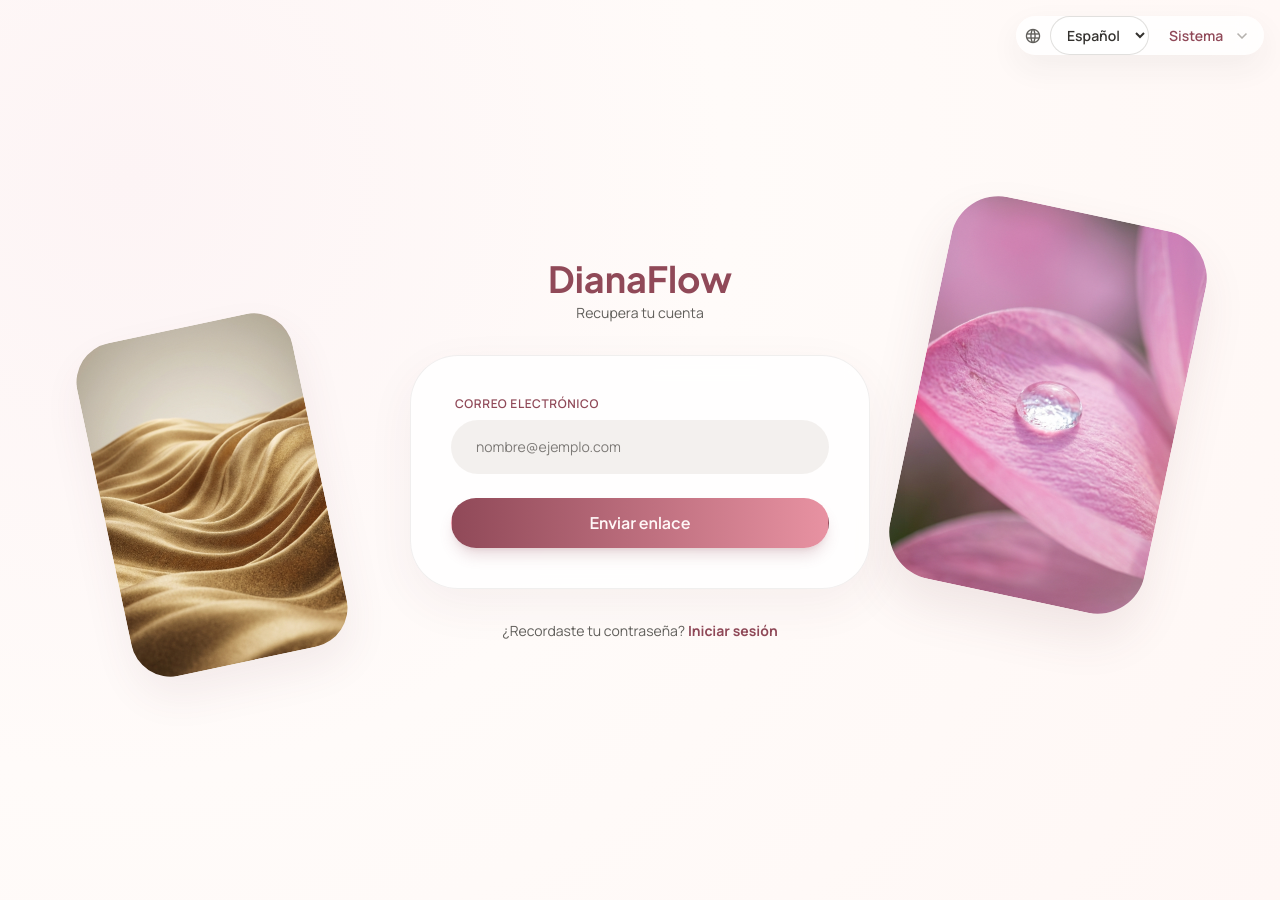
Scenario: requests a password reset in the selected locale
Type "Diana@Example.com" into the field labelled "Correo electrónico" at x=640, y=447, box [451, 420, 829, 474]
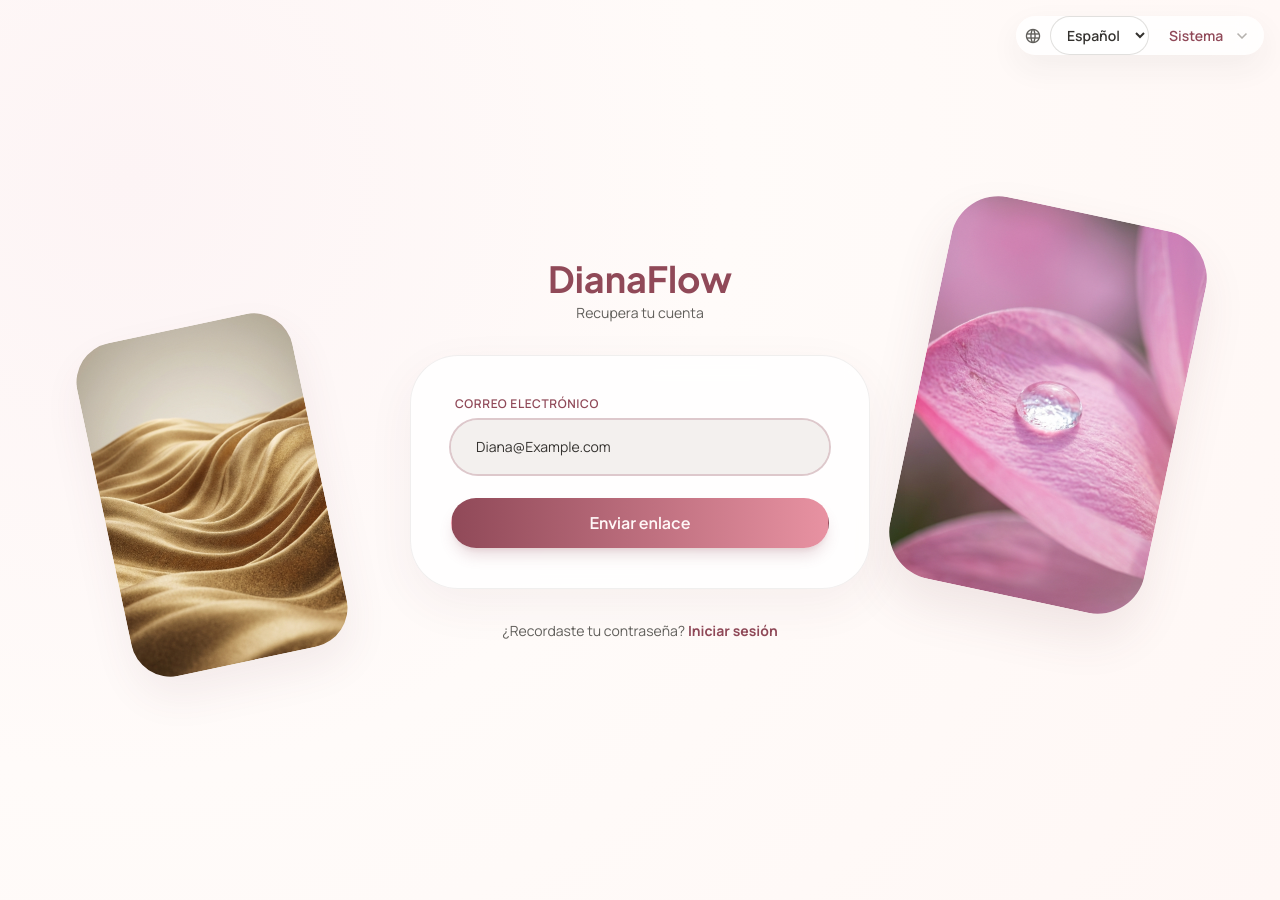
Click the button "Enviar enlace" at x=640, y=523, box [451, 498, 829, 548]
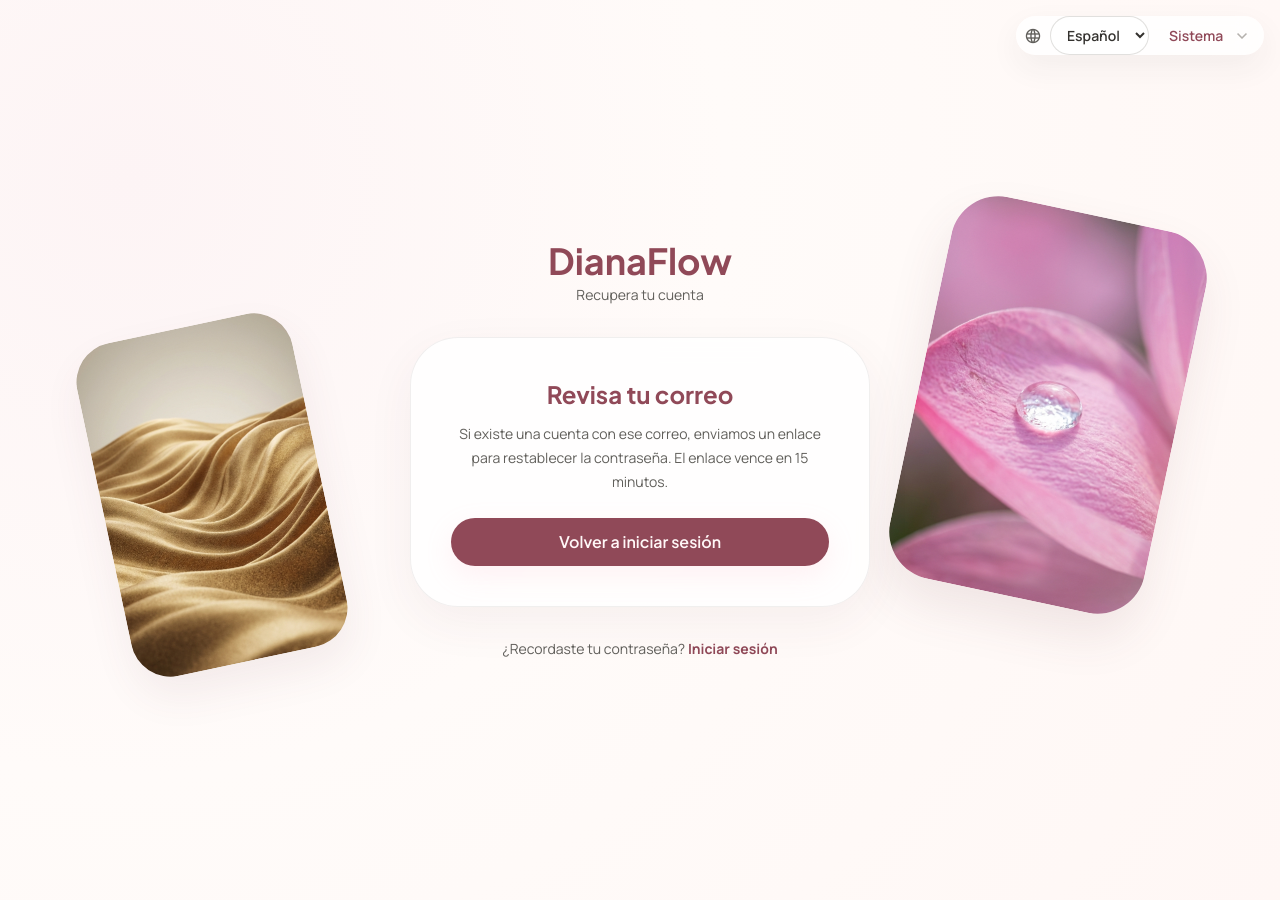
expect the heading "Revisa tu correo" is shown: met, box [547, 379, 733, 409]
